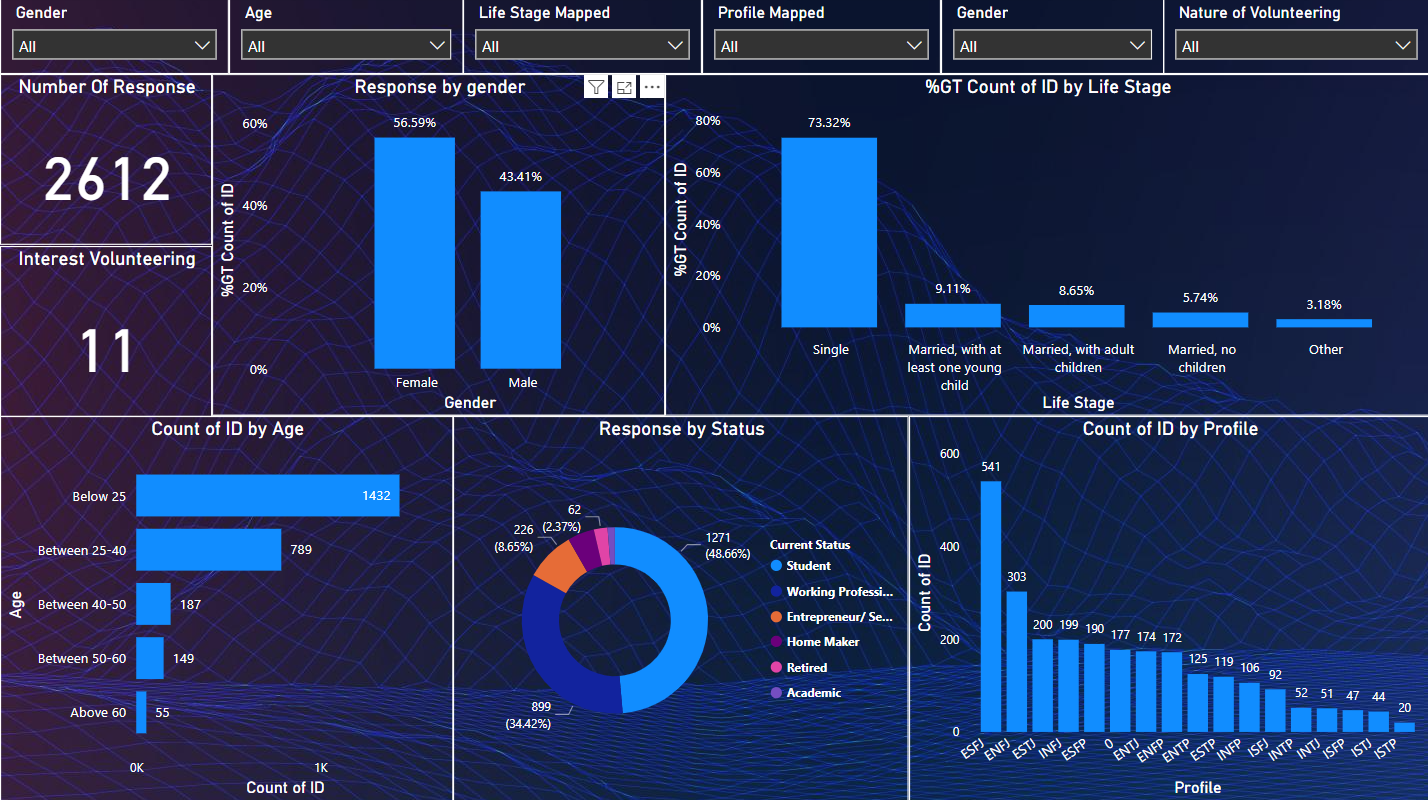

Layout of this report page (visuals, bound fields, positions):
{"tool":"powerbi","page":{"name":"Page 1","canvas":[1280,720],"ordinal":0},"visuals":[{"type":"slicer","fields":{"Values":["Final Sheet.Gender"]},"box":[0,0,204.8,69.2],"z":0},{"type":"slicer","fields":{"Values":["Age.Age"]},"box":[205.2,0,210.1,69.1],"z":1000},{"type":"slicer","fields":{"Values":["Best Describe Your Life stage.Life Stage Mapped"]},"box":[415,0,213.7,69.2],"z":2000},{"type":"slicer","fields":{"Values":["MBTI Profile.Profile Mapped"]},"box":[628.7,0,213.7,69.2],"z":3000},{"type":"slicer","fields":{"Values":["Final Sheet.Gender"]},"box":[842.4,0,199.5,69.2],"z":4000},{"type":"slicer","fields":{"Values":["Nature of your volunteering.What has typically been the nature of your volunteering?"]},"box":[1041.9,0,238.5,69.2],"z":5000},{"type":"clusteredColumnChart","title":"Response by gender","fields":{"Category":["Gender.Gender"],"Y":["CountNonNull(Final Sheet.ID)"]},"box":[189.8,69.2,406.1,305.9],"z":6000},{"type":"clusteredColumnChart","fields":{"Y":["CountNonNull(Final Sheet.ID)"],"Category":["Best Describe Your Life stage.Life Stage"]},"box":[595.9,69.2,684.5,305.9],"z":7000},{"type":"clusteredBarChart","fields":{"Y":["CountNonNull(Final Sheet.ID)"],"Category":["Age.Age"]},"box":[0,375.1,406.1,344.9],"z":8000},{"type":"donutChart","title":"Response by Status","fields":{"Category":["Current Status.Current Status"],"Y":["CountNonNull(Final Sheet.ID)"]},"box":[406.1,375.1,407.9,344.9],"z":9000},{"type":"columnChart","fields":{"Y":["CountNonNull(Final Sheet.ID)"],"Category":["MBTI Profile.Profile"]},"box":[814,375.1,466.4,344.9],"z":10000},{"type":"card","title":"Number Of Response","fields":{"Values":["Count(Final Sheet.ID)"]},"box":[0,69.2,189.8,153.4],"z":10001},{"type":"card","title":"Interest Volunteering ","fields":{"Values":["Count(Interest in Volunteering.Interest in Volunteering)"]},"box":[0,222.6,189.8,152.5],"z":10002}]}

Visuals, with their boxes in screenshot pixels (x1, y1, x2, y2), scaled from the page's 1280x720 canvas onto the 1428x800 screenshot:
slicer - Final Sheet.Gender: (x1=0, y1=0, x2=228, y2=77)
slicer - Age.Age: (x1=229, y1=0, x2=463, y2=77)
slicer - Best Describe Your Life stage.Life Stage Mapped: (x1=463, y1=0, x2=701, y2=77)
slicer - MBTI Profile.Profile Mapped: (x1=701, y1=0, x2=940, y2=77)
slicer - Final Sheet.Gender: (x1=940, y1=0, x2=1162, y2=77)
slicer - Nature of your volunteering.What has typically been the nature of your volunteering?: (x1=1162, y1=0, x2=1427, y2=77)
"Response by gender" clusteredColumnChart: (x1=212, y1=77, x2=665, y2=417)
clusteredColumnChart - CountNonNull(Final Sheet.ID) x Best Describe Your Life stage.Life Stage: (x1=665, y1=77, x2=1427, y2=417)
clusteredBarChart - CountNonNull(Final Sheet.ID) x Age.Age: (x1=0, y1=417, x2=453, y2=799)
"Response by Status" donutChart: (x1=453, y1=417, x2=908, y2=799)
columnChart - CountNonNull(Final Sheet.ID) x MBTI Profile.Profile: (x1=908, y1=417, x2=1427, y2=799)
"Number Of Response" card: (x1=0, y1=77, x2=212, y2=247)
"Interest Volunteering " card: (x1=0, y1=247, x2=212, y2=417)
